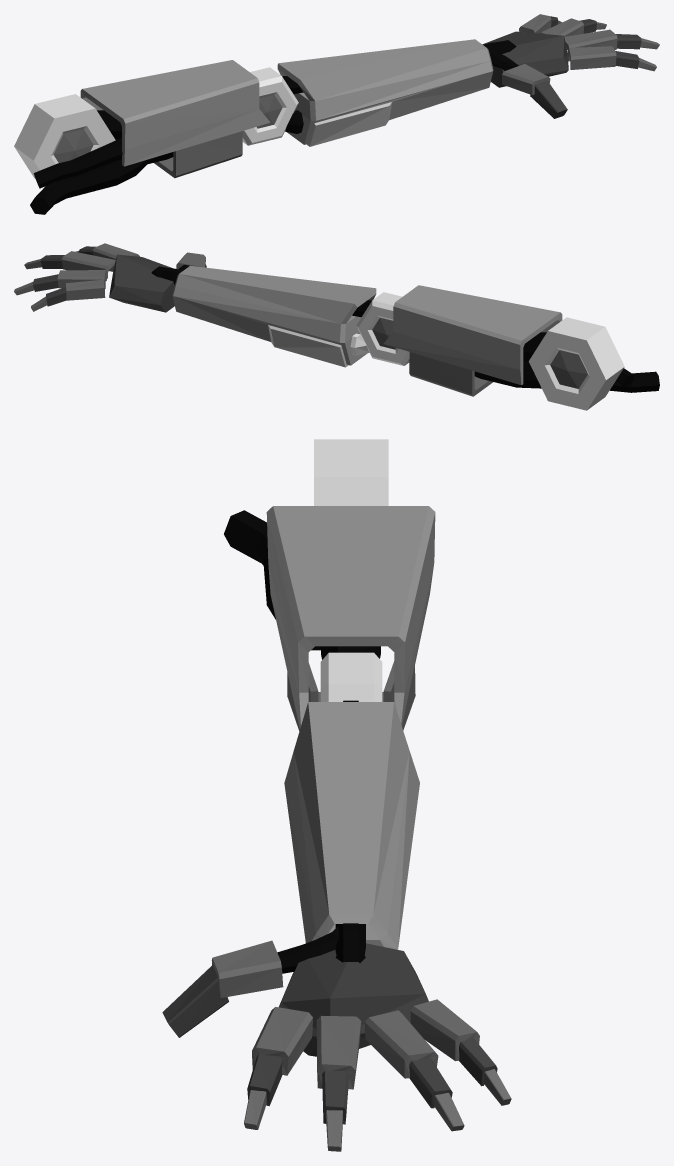
The model's file is augment_A.FBX.
3 views of the same model, one above another, from view 1: azimuth 30°, elevation 25°; view 2: azimuth 150°, elevation 25°; view 3: azimuth 270°, elevation 25° (orthographic). The views are drawn at different scales.
Visible parts, largest first — view 1: cyberarm_A; view 2: cyberarm_A; view 3: cyberarm_A.
Part boxes in pixels (x1,y1,x2,y2): cyberarm_A: (14,14,659,214); cyberarm_A: (14,243,659,410); cyberarm_A: (162,439,511,1151).
Bounding box in the file's own units: 47.13 × 6.31 × 11.62.
